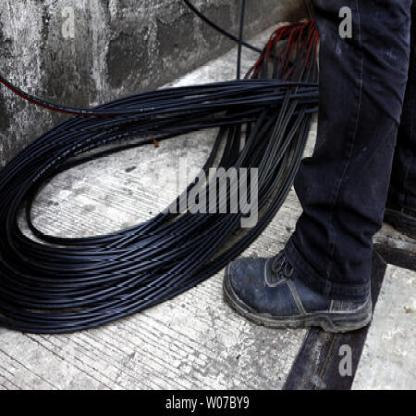bota: (220, 249, 377, 336)
